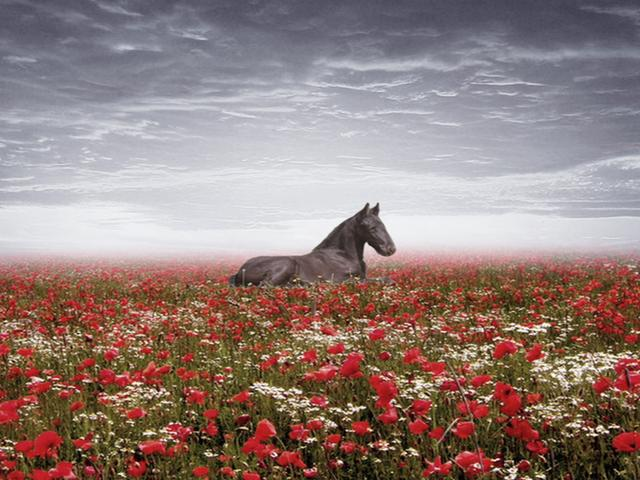horse: (201, 172, 465, 307)
